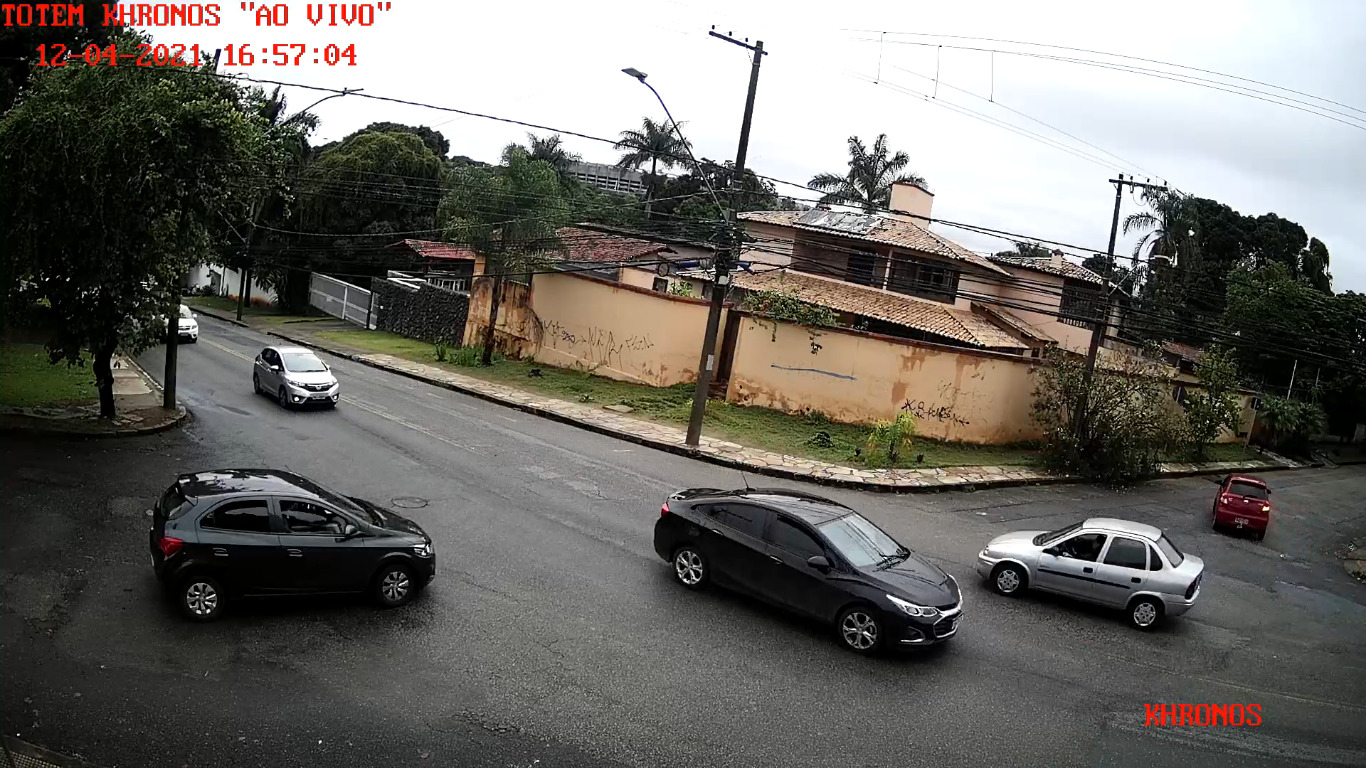car: (654, 486, 963, 661), (150, 468, 436, 621), (977, 517, 1205, 629), (252, 346, 340, 408)
